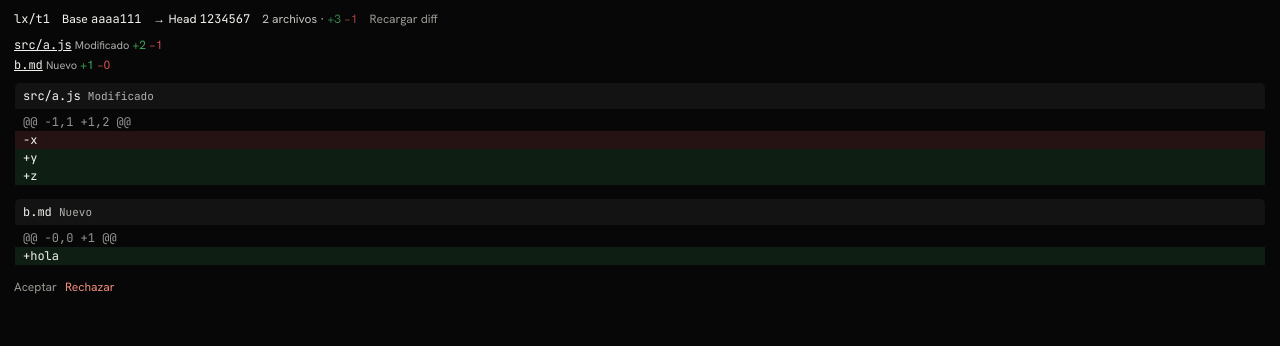
Test: TaskDiffView › aceptar pide confirmación explícita, envía el head revisado y muestra recorded
What coordinates should you click on to do the following:
click the button "Aceptar"
I would click on:
 (35, 287)
Its box is [14, 278, 57, 296].
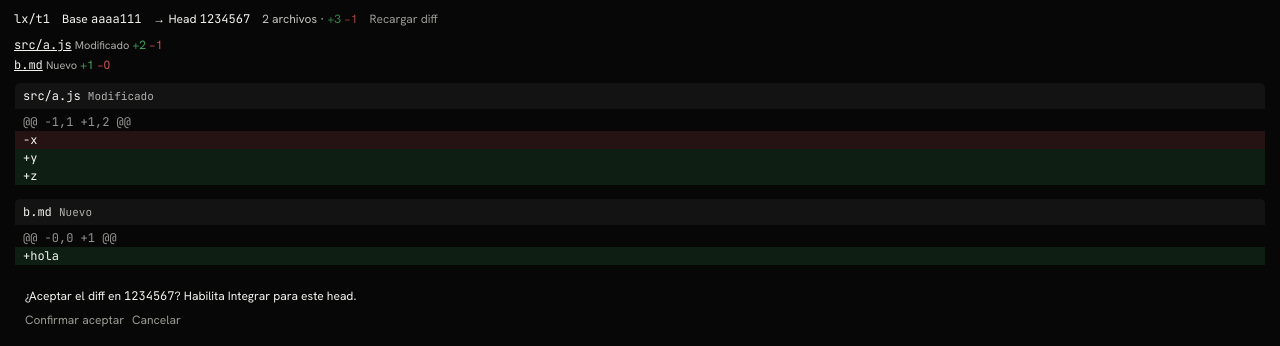
What coordinates should you click on to do the following:
click the button "Confirmar aceptar"
I would click on:
 (75, 320)
Its box is [25, 311, 124, 329].
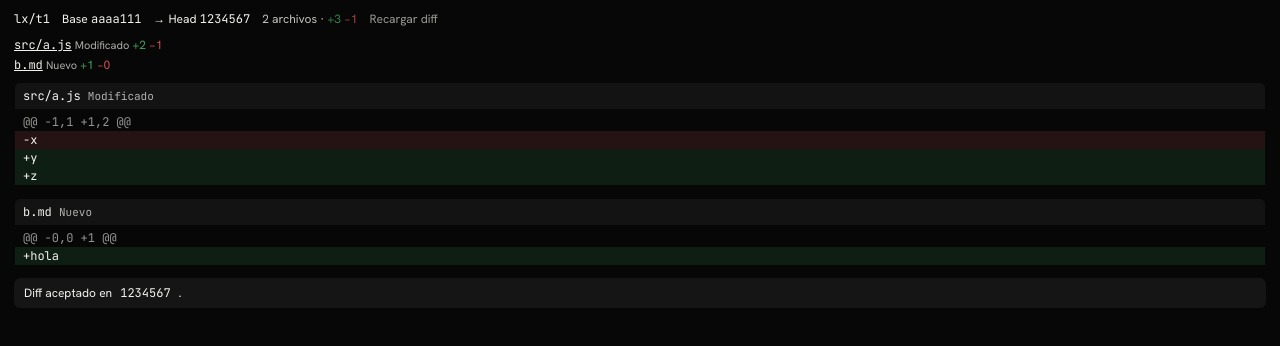
Result: the element with test id "tdv-done" shows "Diff aceptado en 1234567" at [14, 278, 1266, 308]
